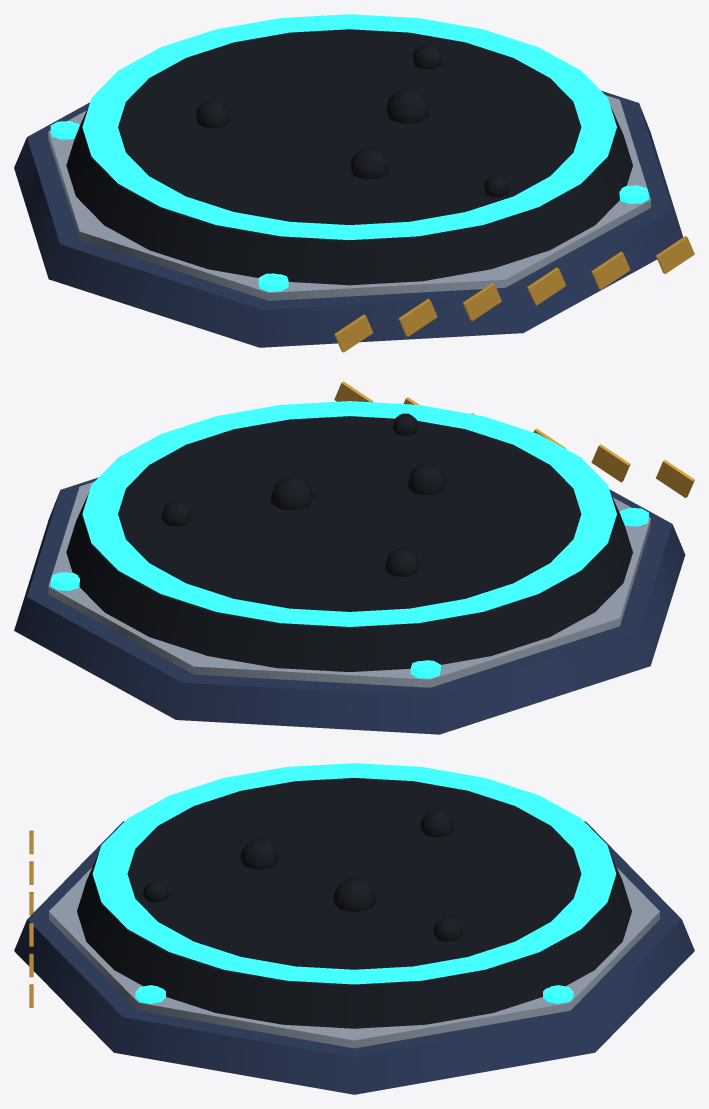
File: trap_tar_full.glb
The picture shows the model from 3 angles, top to bottom: view 1: azimuth 30°, elevation 25°; view 2: azimuth 150°, elevation 25°; view 3: azimuth 270°, elevation 25°; orthographic projection. The views are drawn at different scales.
Visible parts, largest first — view 1: trap_tar_pool, trap_tar_plate, trap_tar_sheen, trap_tar_plate_rim, trap_tar_hazard, trap_tar_bubble0, trap_tar_bubble1, trap_tar_bubble2, trap_tar_bubble3; view 2: trap_tar_pool, trap_tar_plate, trap_tar_sheen, trap_tar_plate_rim, trap_tar_hazard, trap_tar_bubble0, trap_tar_bubble1, trap_tar_bubble2, trap_tar_bubble3; view 3: trap_tar_pool, trap_tar_plate, trap_tar_sheen, trap_tar_plate_rim, trap_tar_bubble0, trap_tar_bubble1, trap_tar_bubble2, trap_tar_hazard, trap_tar_bubble3.
Part boxes in pixels (x1=…): trap_tar_pool: x1=66, y1=29, x2=632, y2=285; trap_tar_plate: x1=14, y1=90, x2=682, y2=347; trap_tar_sheen: x1=82, y1=14, x2=616, y2=240; trap_tar_plate_rim: x1=48, y1=95, x2=650, y2=300; trap_tar_hazard: x1=334, y1=236, x2=694, y2=352; trap_tar_bubble0: x1=386, y1=89, x2=428, y2=123; trap_tar_bubble1: x1=350, y1=148, x2=388, y2=179; trap_tar_bubble2: x1=195, y1=99, x2=229, y2=127; trap_tar_bubble3: x1=412, y1=44, x2=442, y2=69; trap_tar_pool: x1=66, y1=416, x2=632, y2=671; trap_tar_plate: x1=14, y1=477, x2=685, y2=734; trap_tar_sheen: x1=82, y1=401, x2=616, y2=626; trap_tar_plate_rim: x1=48, y1=482, x2=650, y2=687; trap_tar_hazard: x1=334, y1=381, x2=694, y2=497; trap_tar_bubble0: x1=270, y1=476, x2=313, y2=510; trap_tar_bubble1: x1=407, y1=463, x2=446, y2=495; trap_tar_bubble2: x1=385, y1=548, x2=419, y2=576; trap_tar_bubble3: x1=161, y1=501, x2=191, y2=526; trap_tar_pool: x1=77, y1=778, x2=631, y2=1028; trap_tar_plate: x1=14, y1=821, x2=694, y2=1094; trap_tar_sheen: x1=92, y1=763, x2=616, y2=984; trap_tar_plate_rim: x1=49, y1=867, x2=659, y2=1048; trap_tar_bubble0: x1=332, y1=877, x2=376, y2=911; trap_tar_bubble1: x1=240, y1=838, x2=278, y2=869; trap_tar_bubble2: x1=420, y1=809, x2=454, y2=837; trap_tar_hazard: x1=29, y1=830, x2=33, y2=1007; trap_tar_bubble3: x1=433, y1=916, x2=463, y2=941.
Bounding box in the file's own units: 1.56 × 0.25 × 1.56.
